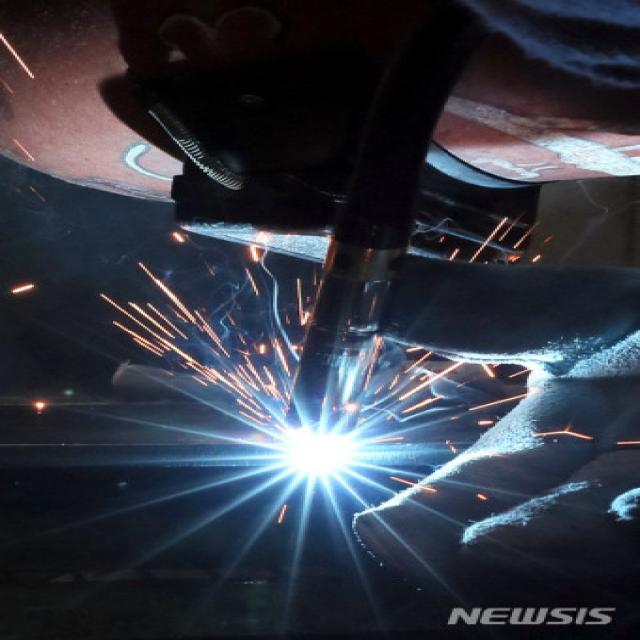welding: (271, 425, 365, 476)
